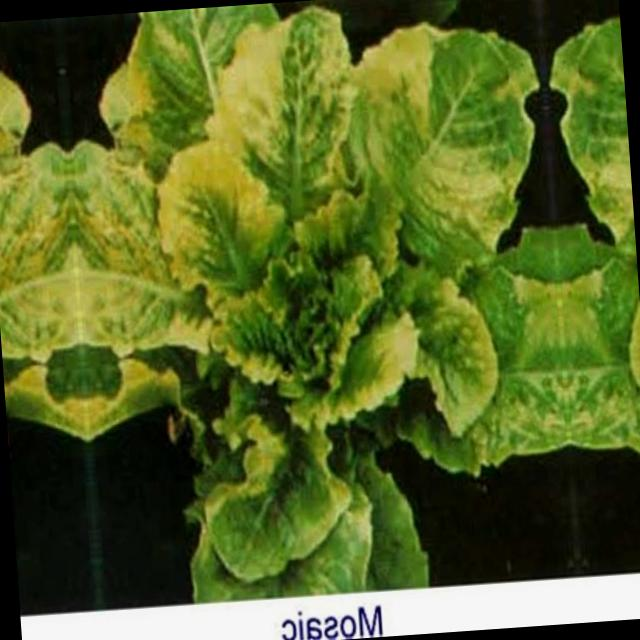healthy: (58, 0, 578, 608), (537, 0, 640, 574), (0, 17, 99, 613)
